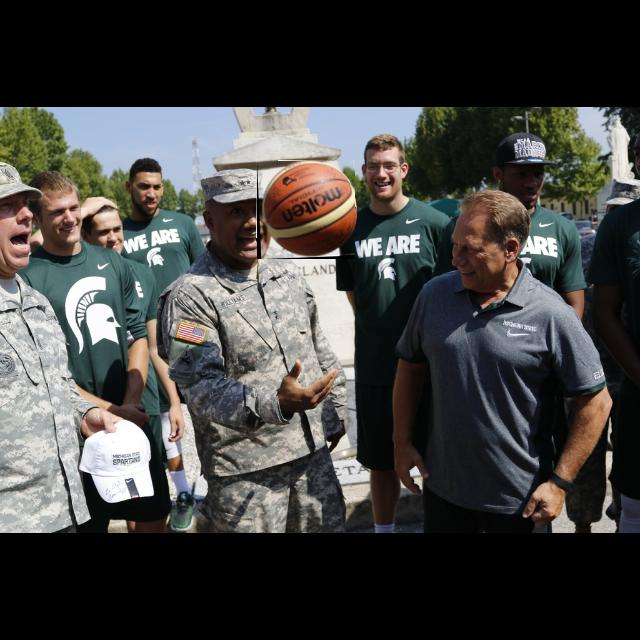Football: (257, 161, 355, 259)
